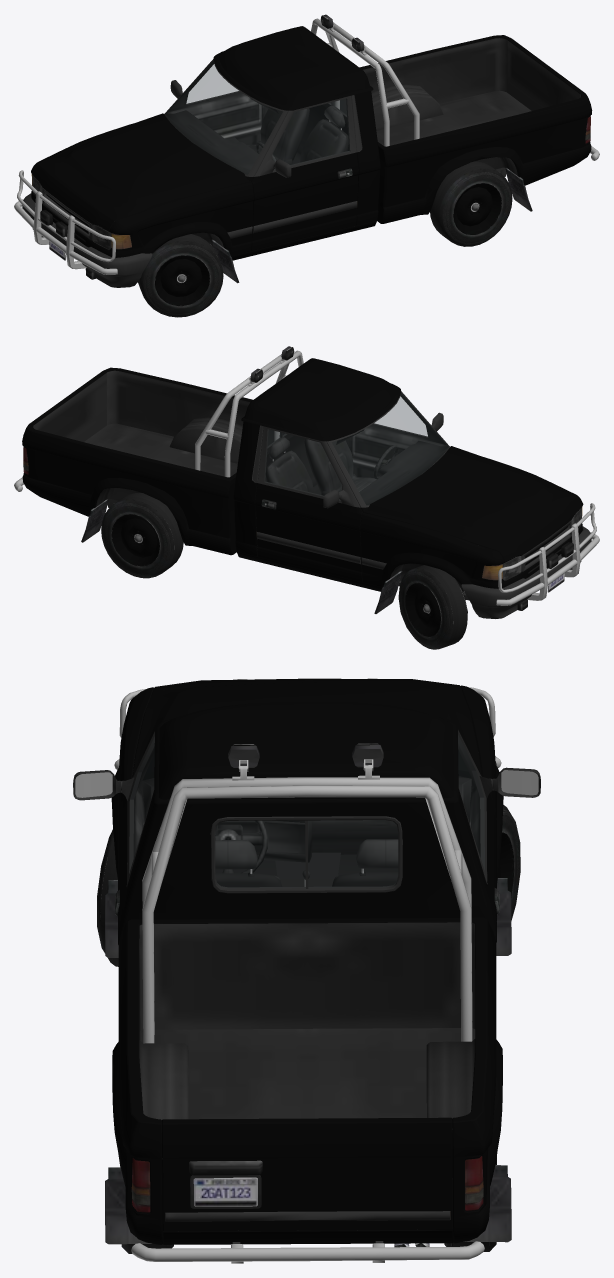
File: pickup_90s.glb
The picture shows the model from 3 angles, top to bottom: view 1: azimuth 30°, elevation 25°; view 2: azimuth 150°, elevation 25°; view 3: azimuth 270°, elevation 25°; orthographic projection. The views are drawn at different scales.
Visible parts, largest first — view 1: Body_cabin_body_0, hood_body_0, trunk_body_body_0, bottom_trunk_UCB_BOTTOM_0, Door_left_body_0, Windshield_UCB_GLASS_CLEAN_0, Wheel_FL_RB4_StampedEuro_black_0, Wheel_RL_RB4_StampedEuro_black_0, Door_glass_left_UCB_GLASS_CLEAN_0, Seats_GEN4DR_INTERIOR_0, Doorcard_right_GEN4DR_INTERIOR_0, Bullbar_UCB_BOTTOM_0 (+9 smaller); view 2: Body_cabin_body_0, trunk_body_body_0, hood_body_0, bottom_trunk_UCB_BOTTOM_0, Door_right_body_0, Windshield_UCB_GLASS_CLEAN_0, Wheel_RR_RB4_StampedEuro_black_0, Wheel_FR_RB4_StampedEuro_black_0, Door_glass_right_UCB_GLASS_CLEAN_0, Seats_GEN4DR_INTERIOR_0, Bullbar_UCB_BOTTOM_0, Trunk_door_inner_UCB_BOTTOM_0 (+9 smaller); view 3: bottom_trunk_UCB_BOTTOM_0, Body_cabin_body_0, Trunkdoor_body_0, trunk_body_body_0, rollcage_UCB_BOTTOM_0, Rear_glass_UCB_GLASS_CLEAN_0, hood_body_0, Dashboard_GEN4DR_INTERIOR_0, bumper_rear_UCB_BOTTOM_0, bottom_cabin_UCB_BOTTOM_0, Trunk_door_inner_UCB_BOTTOM_0, Seats_GEN4DR_INTERIOR_0 (+12 smaller).
Boxes of the visible parts, left/top/right/bottom form: Body_cabin_body_0: left=31, top=26, right=380, bottom=260; hood_body_0: left=32, top=113, right=250, bottom=230; trunk_body_body_0: left=359, top=35, right=592, bottom=223; bottom_trunk_UCB_BOTTOM_0: left=331, top=38, right=580, bottom=211; Door_left_body_0: left=251, top=152, right=358, bottom=251; Windshield_UCB_GLASS_CLEAN_0: left=166, top=61, right=281, bottom=173; Wheel_FL_RB4_StampedEuro_black_0: left=138, top=234, right=223, bottom=317; Wheel_RL_RB4_StampedEuro_black_0: left=430, top=161, right=512, bottom=246; Door_glass_left_UCB_GLASS_CLEAN_0: left=273, top=99, right=349, bottom=169; Seats_GEN4DR_INTERIOR_0: left=247, top=106, right=348, bottom=164; Doorcard_right_GEN4DR_INTERIOR_0: left=167, top=61, right=267, bottom=144; Bullbar_UCB_BOTTOM_0: left=14, top=170, right=117, bottom=274; Body_cabin_body_0: left=233, top=358, right=583, bottom=591; trunk_body_body_0: left=22, top=367, right=252, bottom=555; hood_body_0: left=363, top=446, right=581, bottom=561; bottom_trunk_UCB_BOTTOM_0: left=33, top=370, right=284, bottom=542; Door_right_body_0: left=255, top=483, right=362, bottom=582; Windshield_UCB_GLASS_CLEAN_0: left=332, top=393, right=448, bottom=504; Wheel_RR_RB4_StampedEuro_black_0: left=101, top=493, right=183, bottom=578; Wheel_FR_RB4_StampedEuro_black_0: left=398, top=565, right=467, bottom=649; Door_glass_right_UCB_GLASS_CLEAN_0: left=265, top=430, right=341, bottom=495; Seats_GEN4DR_INTERIOR_0: left=265, top=437, right=376, bottom=495; Bullbar_UCB_BOTTOM_0: left=496, top=503, right=599, bottom=605; Trunk_door_inner_UCB_BOTTOM_0: left=34, top=373, right=106, bottom=441; bottom_trunk_UCB_BOTTOM_0: left=105, top=922, right=511, bottom=1244; Body_cabin_body_0: left=111, top=685, right=503, bottom=944; Trunkdoor_body_0: left=162, top=1117, right=453, bottom=1231; trunk_body_body_0: left=112, top=917, right=502, bottom=1244; rollcage_UCB_BOTTOM_0: left=142, top=743, right=472, bottom=1043; Rear_glass_UCB_GLASS_CLEAN_0: left=215, top=820, right=397, bottom=887; hood_body_0: left=132, top=678, right=481, bottom=777; Dashboard_GEN4DR_INTERIOR_0: left=142, top=776, right=471, bottom=862; bumper_rear_UCB_BOTTOM_0: left=131, top=1241, right=484, bottom=1263; bottom_cabin_UCB_BOTTOM_0: left=105, top=815, right=511, bottom=957; Trunk_door_inner_UCB_BOTTOM_0: left=165, top=1128, right=452, bottom=1221; Seats_GEN4DR_INTERIOR_0: left=211, top=839, right=402, bottom=893.
Bounding box in the file's own units: 208 × 80.64 × 82.63.
Materials: 7 (6 with a texture image).
